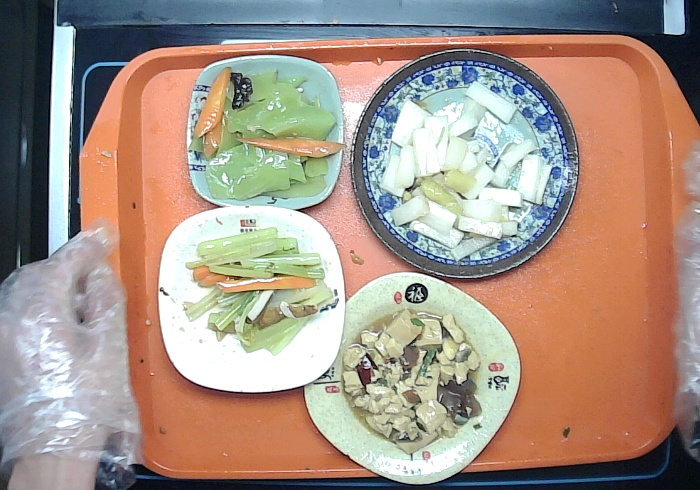NLDX-Bai_Se_Xiao_Fang_Die: (148, 200, 352, 401)
NLDX-Fu_Zi_Fang_Die: (295, 267, 527, 485)
NLDX-Qing_Hua_Xiao_Fang_Die: (180, 49, 350, 213)
NLDX-Qing_Hua_Yuan_Die: (346, 44, 582, 285)
